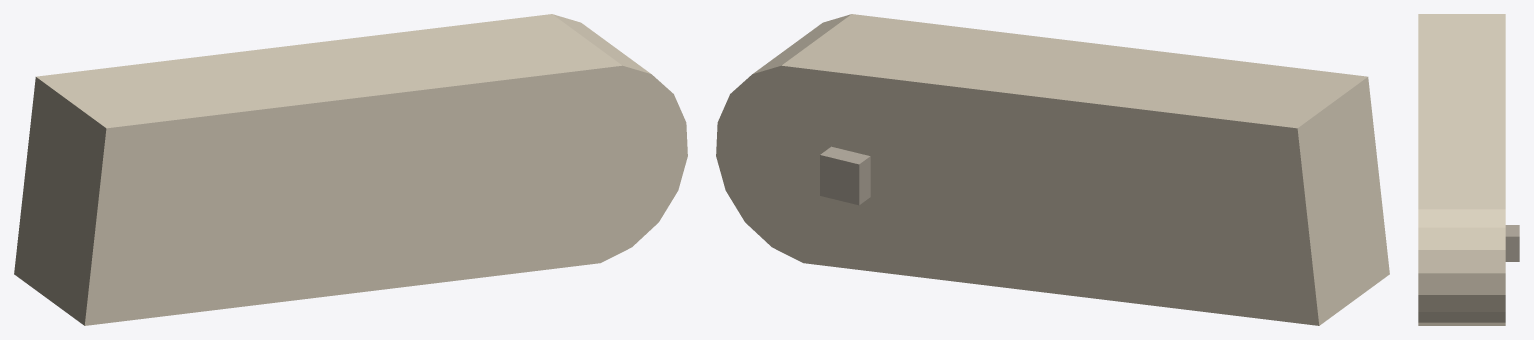
File: historic-palestine-13_24_3554_3182.glb
The picture shows the model from 3 angles, left to right: view 1: azimuth 30°, elevation 25°; view 2: azimuth 150°, elevation 25°; view 3: azimuth 270°, elevation 25°; orthographic projection. The views are drawn at different scales.
Parts seen in each view (by area): view 1: Building_; view 2: Building_, Roof access hut; view 3: Building_, Roof access hut.
Boxes of the visible parts, <box> form: Building_: <box>14,14,687,325</box>; Building_: <box>716,14,1389,325</box>; Roof access hut: <box>820,146,870,205</box>; Building_: <box>1418,14,1505,325</box>; Roof access hut: <box>1505,225,1519,261</box>.
Size of the model in its own units: 36.98 by 14.96 by 8.7.
